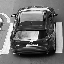motor: (18, 6, 51, 51)
